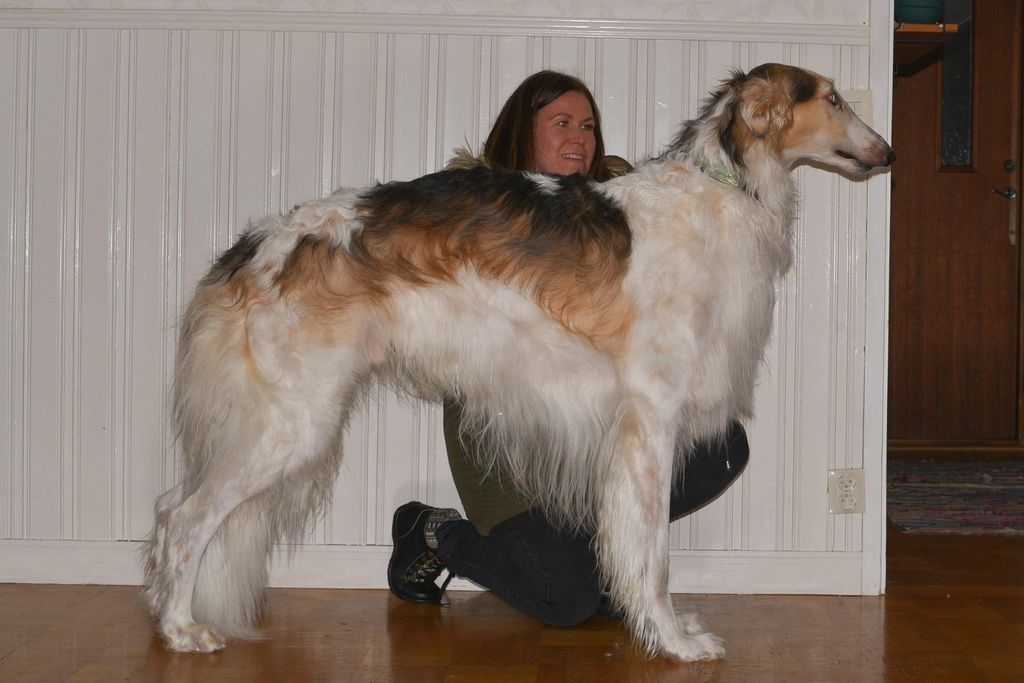borzoi: (120, 76, 912, 657)
